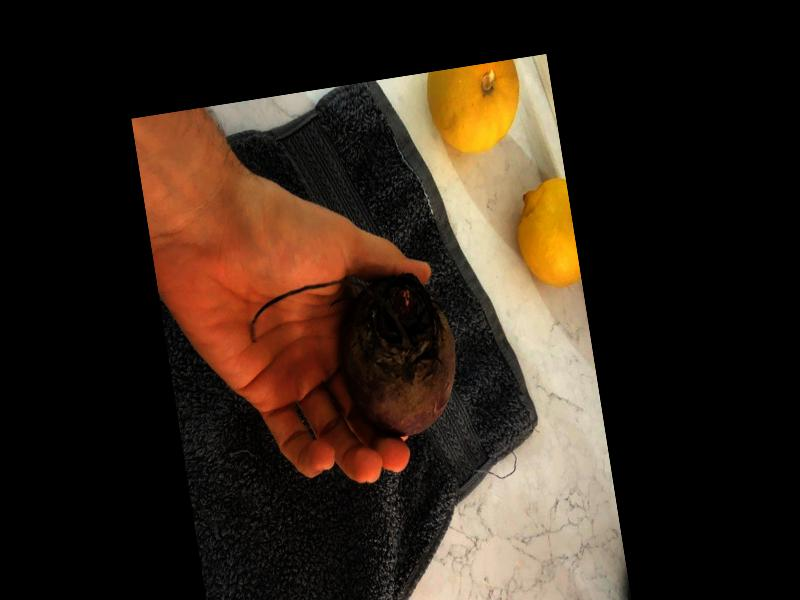Beet: (245, 268, 468, 459)
